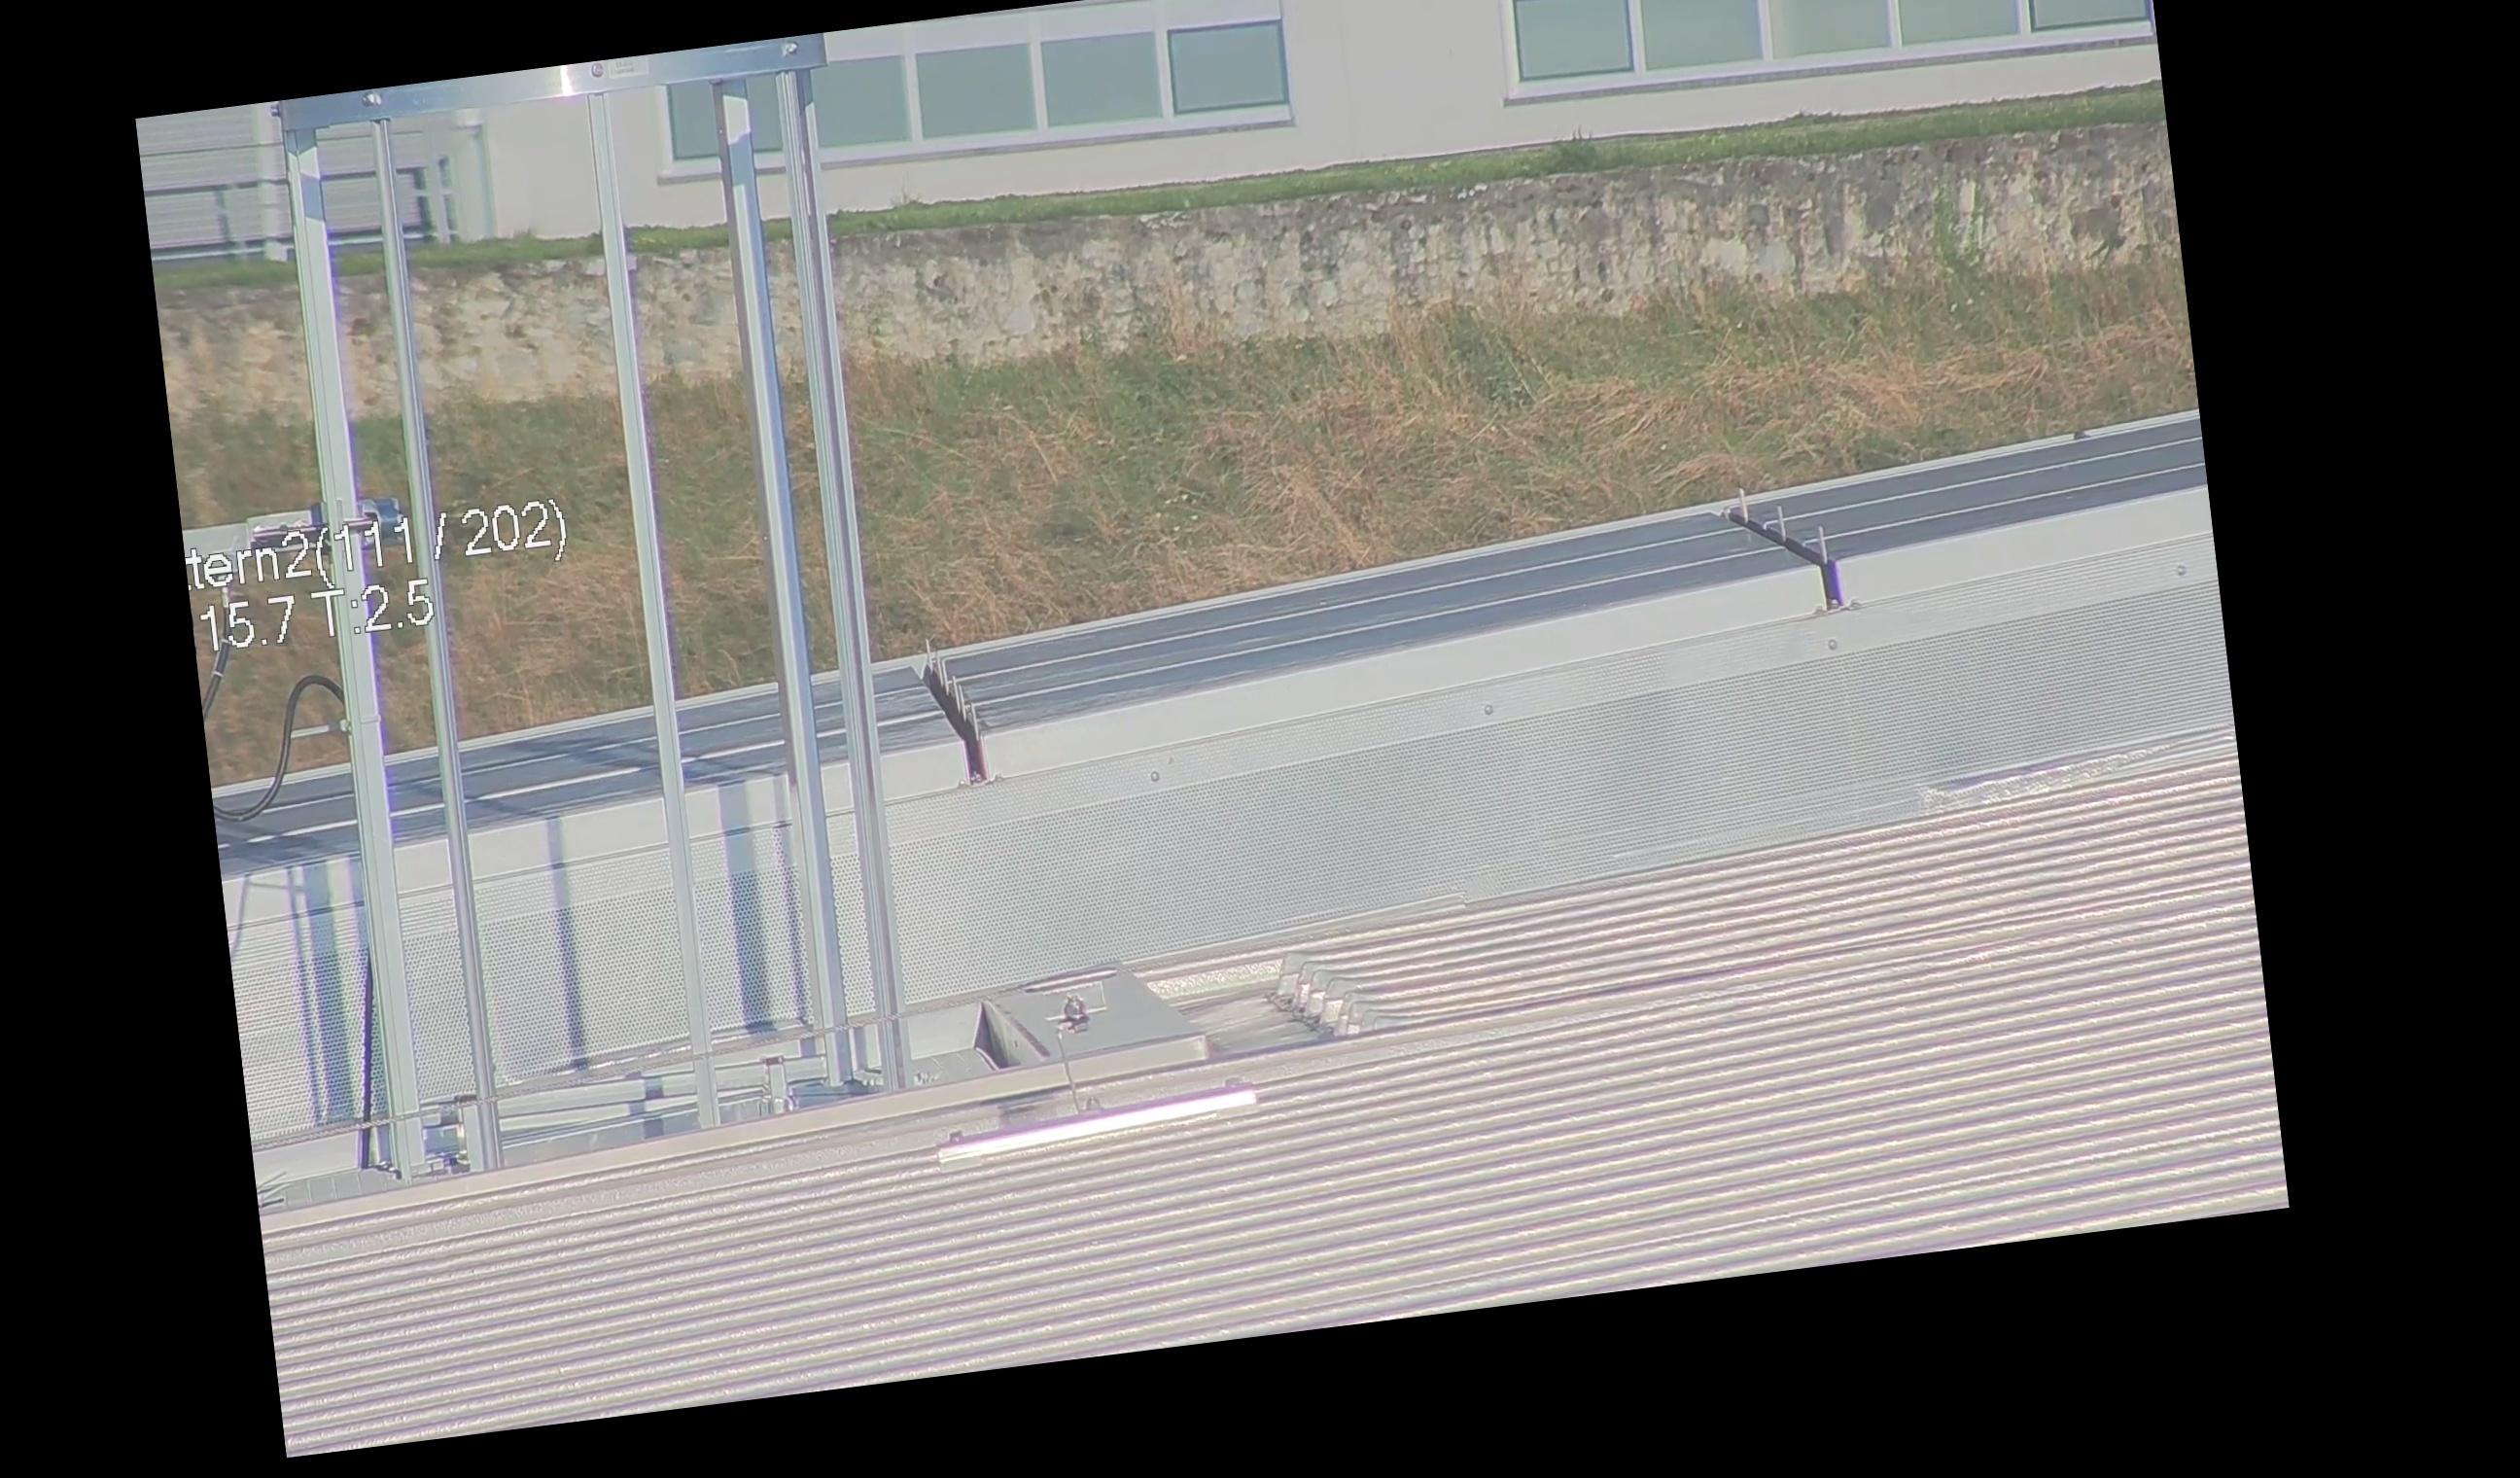Other: (893, 626, 1004, 799)
